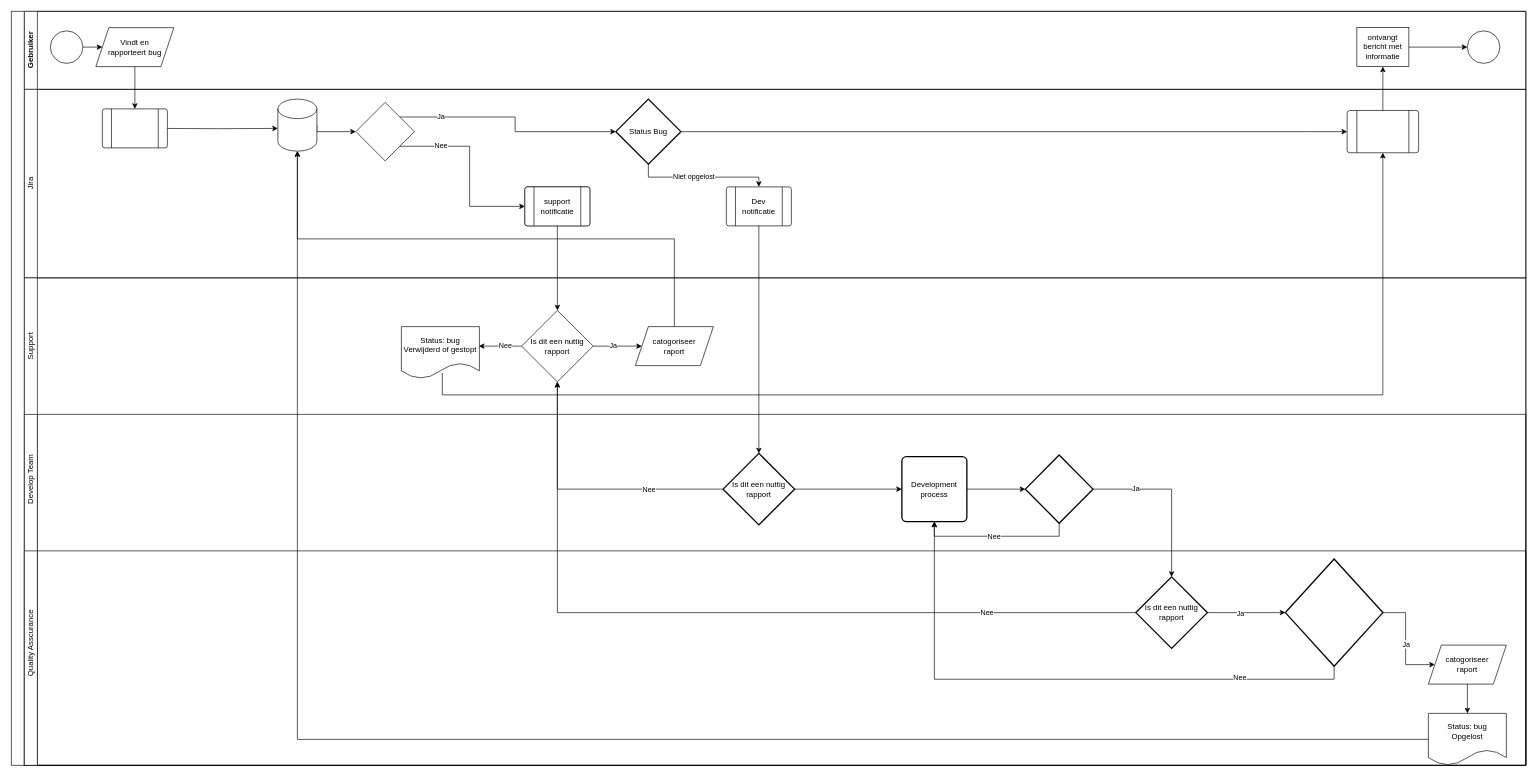
This 1537x777 diagram has some shape labels left out. Each missing label, with the centre of its shape:
catogoriseerd: point 384,131
Db: point 297,124
Development klaar?: point 1058,489
End: point 1483,46
Ontvangt en slaat raport op: point 134,128
Raport Opgelost en alle testen juist: point 1333,612
Stuurt notificatie met status rapport: point 1382,131
terminal: point 66,46
